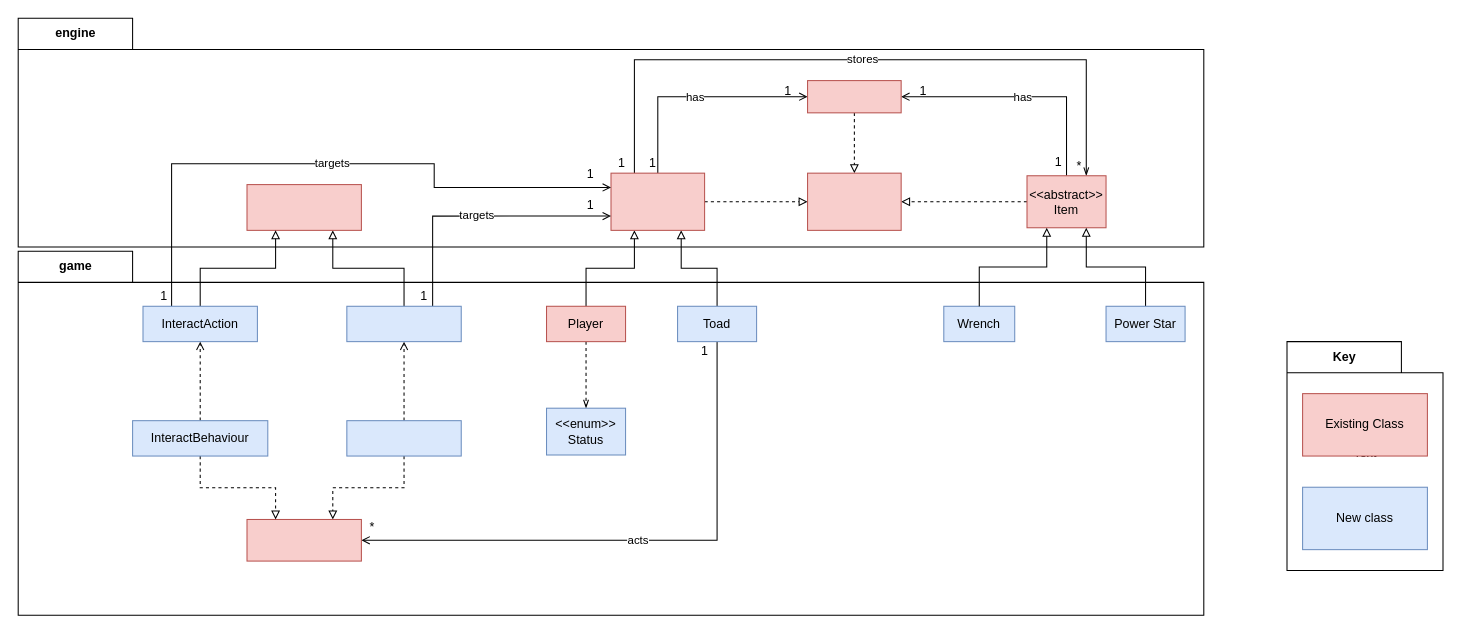
The diagram is 1461 pixels wide and 633 high, and some of its shapes have lost their labels. The centre of each missing label's shape, as x and y in pixels:
<<abstract>> Action: point (303, 207)
<<abstract>> Actor: point (657, 201)
<<interface>> Behaviour: point (303, 539)
<<interface>> Capable: point (854, 201)
CapabilitySet: point (854, 96)
SpeakAction: point (403, 323)
SpeakBehaviour: point (403, 438)
